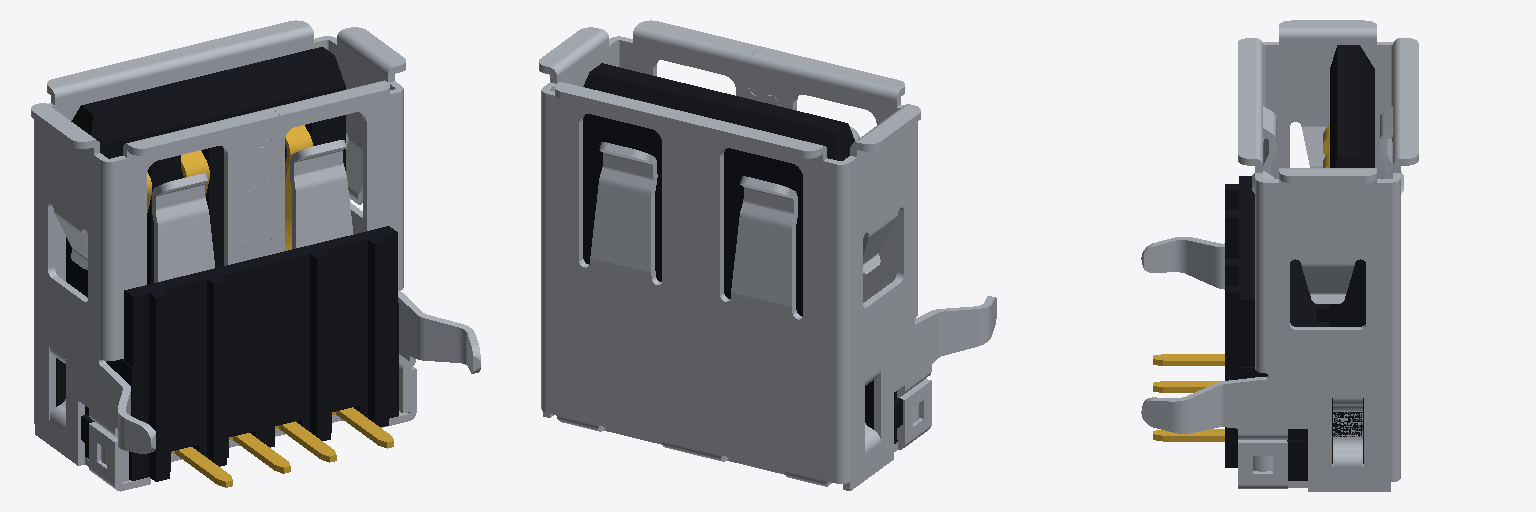
URDF robot description (Wurth_61400416021_USB_A_receptacle):
<?xml version='1.0' encoding='utf-8'?>
<robot name="Wurth_61400416021_USB_A_receptacle">
  <link name="usb_socket">
    <visual>
      <origin xyz="0 -0.00048 0.002675" rpy="-1.570796327 0 0" />
      <geometry>
        <mesh filename="usb_a/socket_00.obj" />
      </geometry>
      <material name="socket_00.obj">
        <color rgba="0.12 0.13 0.15 1" />
      </material>
    </visual>
    <visual>
      <origin xyz="0 -0.00048 0.002675" rpy="-1.570796327 0 0" />
      <geometry>
        <mesh filename="usb_a/socket_01.obj" />
      </geometry>
      <material name="socket_01.obj">
        <color rgba="0.85 0.68 0.25 1" />
      </material>
    </visual>
    <visual>
      <origin xyz="0 -0.00048 0.002675" rpy="-1.570796327 0 0" />
      <geometry>
        <mesh filename="usb_a/socket_02.obj" />
      </geometry>
      <material name="socket_02.obj">
        <color rgba="0.85 0.68 0.25 1" />
      </material>
    </visual>
    <visual>
      <origin xyz="0 -0.00048 0.002675" rpy="-1.570796327 0 0" />
      <geometry>
        <mesh filename="usb_a/socket_03.obj" />
      </geometry>
      <material name="socket_03.obj">
        <color rgba="0.85 0.68 0.25 1" />
      </material>
    </visual>
    <visual>
      <origin xyz="0 -0.00048 0.002675" rpy="-1.570796327 0 0" />
      <geometry>
        <mesh filename="usb_a/socket_04.obj" />
      </geometry>
      <material name="socket_04.obj">
        <color rgba="0.85 0.68 0.25 1" />
      </material>
    </visual>
    <visual>
      <origin xyz="0 -0.00048 0.002675" rpy="-1.570796327 0 0" />
      <geometry>
        <mesh filename="usb_a/socket_05.obj" />
      </geometry>
      <material name="socket_05.obj">
        <color rgba="0.72 0.74 0.77 1" />
      </material>
    </visual>
    <collision>
      <origin xyz="0 -0.00048 0.002675" rpy="-1.570796327 0 0" />
      <geometry>
        <mesh filename="usb_a/socket_shell_contact_00.obj" />
      </geometry>
    </collision>
    <collision>
      <origin xyz="0 -0.00048 0.002675" rpy="-1.570796327 0 0" />
      <geometry>
        <mesh filename="usb_a/socket_shell_contact_01.obj" />
      </geometry>
    </collision>
    <collision>
      <origin xyz="0 -0.00048 0.002675" rpy="-1.570796327 0 0" />
      <geometry>
        <mesh filename="usb_a/socket_shell_contact_02.obj" />
      </geometry>
    </collision>
    <collision>
      <origin xyz="0 -0.00048 0.002675" rpy="-1.570796327 0 0" />
      <geometry>
        <mesh filename="usb_a/socket_shell_contact_03.obj" />
      </geometry>
    </collision>
    <collision>
      <origin xyz="0 -0.00048 0.002675" rpy="-1.570796327 0 0" />
      <geometry>
        <mesh filename="usb_a/socket_shell_contact_04.obj" />
      </geometry>
    </collision>
    <collision>
      <origin xyz="0 -0.00048 0.002675" rpy="-1.570796327 0 0" />
      <geometry>
        <mesh filename="usb_a/socket_shell_contact_05.obj" />
      </geometry>
    </collision>
    <collision>
      <origin xyz="0 -0.00048 0.002675" rpy="-1.570796327 0 0" />
      <geometry>
        <mesh filename="usb_a/socket_shell_contact_06.obj" />
      </geometry>
    </collision>
    <collision>
      <origin xyz="0 -0.00048 0.002675" rpy="-1.570796327 0 0" />
      <geometry>
        <mesh filename="usb_a/socket_shell_contact_07.obj" />
      </geometry>
    </collision>
    <collision>
      <origin xyz="0 -0.00048 0.002675" rpy="-1.570796327 0 0" />
      <geometry>
        <mesh filename="usb_a/socket_shell_contact_08.obj" />
      </geometry>
    </collision>
    <collision>
      <origin xyz="0 -0.00048 0.002675" rpy="-1.570796327 0 0" />
      <geometry>
        <mesh filename="usb_a/socket_shell_contact_09.obj" />
      </geometry>
    </collision>
    <collision>
      <origin xyz="0 -0.00048 0.002675" rpy="-1.570796327 0 0" />
      <geometry>
        <mesh filename="usb_a/socket_shell_contact_10.obj" />
      </geometry>
    </collision>
    <collision>
      <origin xyz="0 -0.00048 0.002675" rpy="-1.570796327 0 0" />
      <geometry>
        <mesh filename="usb_a/socket_shell_contact_11.obj" />
      </geometry>
    </collision>
    <collision>
      <origin xyz="0 -0.00048 0.002675" rpy="-1.570796327 0 0" />
      <geometry>
        <mesh filename="usb_a/socket_shell_contact_12.obj" />
      </geometry>
    </collision>
    <collision>
      <origin xyz="0 -0.00048 0.002675" rpy="-1.570796327 0 0" />
      <geometry>
        <mesh filename="usb_a/socket_shell_contact_13.obj" />
      </geometry>
    </collision>
    <collision>
      <origin xyz="0 -0.00048 0.002675" rpy="-1.570796327 0 0" />
      <geometry>
        <mesh filename="usb_a/socket_shell_contact_14.obj" />
      </geometry>
    </collision>
    <collision>
      <origin xyz="0 -0.00048 0.002675" rpy="-1.570796327 0 0" />
      <geometry>
        <mesh filename="usb_a/socket_shell_contact_15.obj" />
      </geometry>
    </collision>
    <collision>
      <origin xyz="0 -0.00048 0.002675" rpy="-1.570796327 0 0" />
      <geometry>
        <mesh filename="usb_a/socket_shell_contact_16.obj" />
      </geometry>
    </collision>
    <collision>
      <origin xyz="0 -0.00048 0.002675" rpy="-1.570796327 0 0" />
      <geometry>
        <mesh filename="usb_a/socket_shell_contact_17.obj" />
      </geometry>
    </collision>
    <collision>
      <origin xyz="0 -0.00048 0.002675" rpy="-1.570796327 0 0" />
      <geometry>
        <mesh filename="usb_a/socket_shell_contact_18.obj" />
      </geometry>
    </collision>
    <collision>
      <origin xyz="0 -0.00048 0.002675" rpy="-1.570796327 0 0" />
      <geometry>
        <mesh filename="usb_a/socket_shell_contact_19.obj" />
      </geometry>
    </collision>
    <collision>
      <origin xyz="0 -0.00048 0.002675" rpy="-1.570796327 0 0" />
      <geometry>
        <mesh filename="usb_a/socket_tongue_contact_00.obj" />
      </geometry>
    </collision>
    <collision>
      <origin xyz="0 -0.00048 0.002675" rpy="-1.570796327 0 0" />
      <geometry>
        <mesh filename="usb_a/socket_tongue_contact_01.obj" />
      </geometry>
    </collision>
    <collision>
      <origin xyz="0 -0.00048 0.002675" rpy="-1.570796327 0 0" />
      <geometry>
        <mesh filename="usb_a/socket_tongue_contact_02.obj" />
      </geometry>
    </collision>
    <collision>
      <origin xyz="0 -0.00048 0.002675" rpy="-1.570796327 0 0" />
      <geometry>
        <mesh filename="usb_a/socket_tongue_contact_03.obj" />
      </geometry>
    </collision>
    <collision>
      <origin xyz="0 -0.00048 0.002675" rpy="-1.570796327 0 0" />
      <geometry>
        <mesh filename="usb_a/socket_tongue_contact_04.obj" />
      </geometry>
    </collision>
    <collision>
      <origin xyz="0 -0.00048 0.002675" rpy="-1.570796327 0 0" />
      <geometry>
        <mesh filename="usb_a/socket_tongue_contact_05.obj" />
      </geometry>
    </collision>
    <collision>
      <origin xyz="0 -0.00048 0.002675" rpy="-1.570796327 0 0" />
      <geometry>
        <mesh filename="usb_a/socket_back_contact_00.obj" />
      </geometry>
    </collision>
  </link>
</robot>

--- Facts derived from the render (not from the file) ---
Views: 3 orthographic renders of the robot side by side, from view 1: azimuth 30°, elevation 25°; view 2: azimuth 150°, elevation 25°; view 3: azimuth 270°, elevation 25°.
Robot: Wurth_61400416021_USB_A_receptacle — 1 links, 0 joints (none); root link usb_socket; default pose: all joints at 0.
Visible links, largest first — view 1: usb_socket; view 2: usb_socket; view 3: usb_socket.
Boxes of the visible links, x1,y1,x2,y2 form: usb_socket: (31,20,480,491); usb_socket: (539,20,996,490); usb_socket: (1141,20,1418,491).
Size in the robot's own frame: 0.0153 by 0.0109 by 0.014 metres.
Meshes: 6 distinct files referenced, 6 mesh visuals loaded (6 OBJ).
